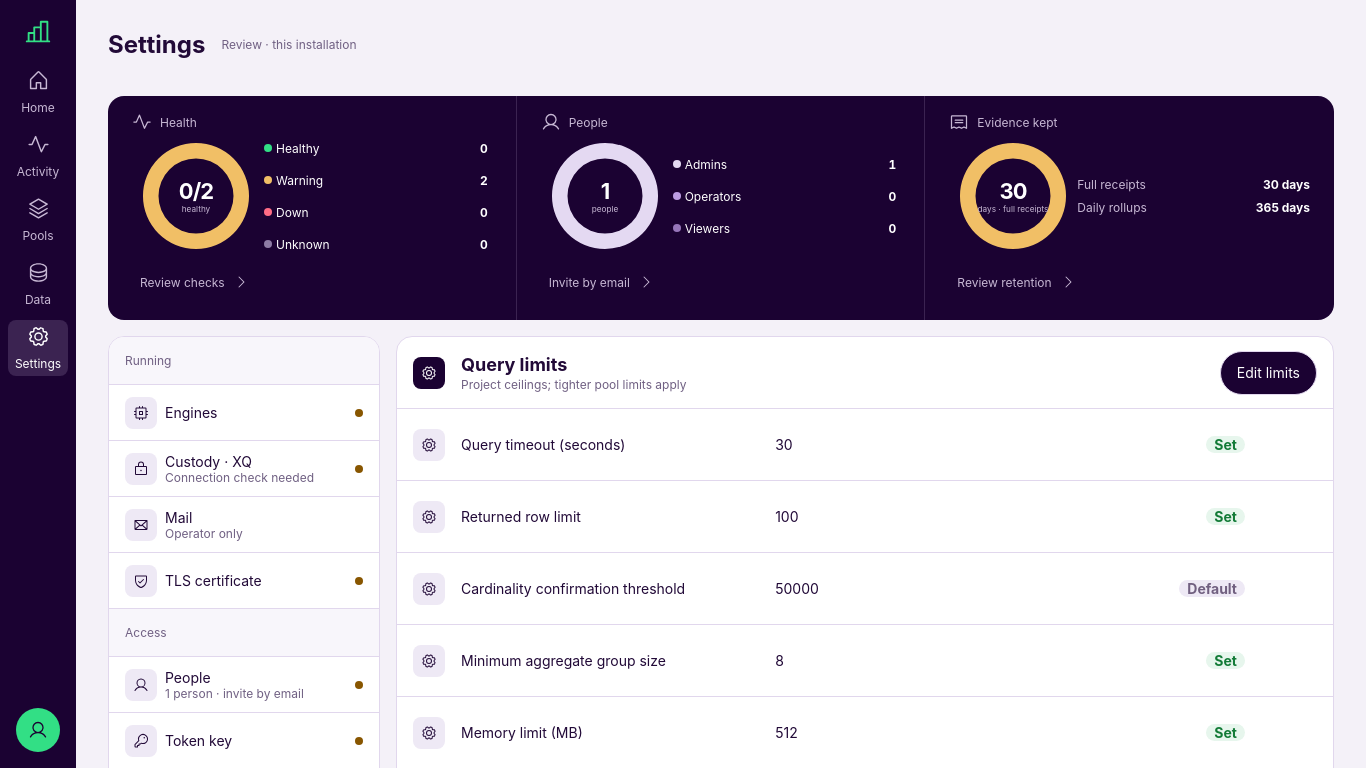
it: every project setting has exactly one existing section; all eight query limits are editable
Click the button "Edit limits" at (1268, 372), box [1220,350,1317,394]
(page scrolled)
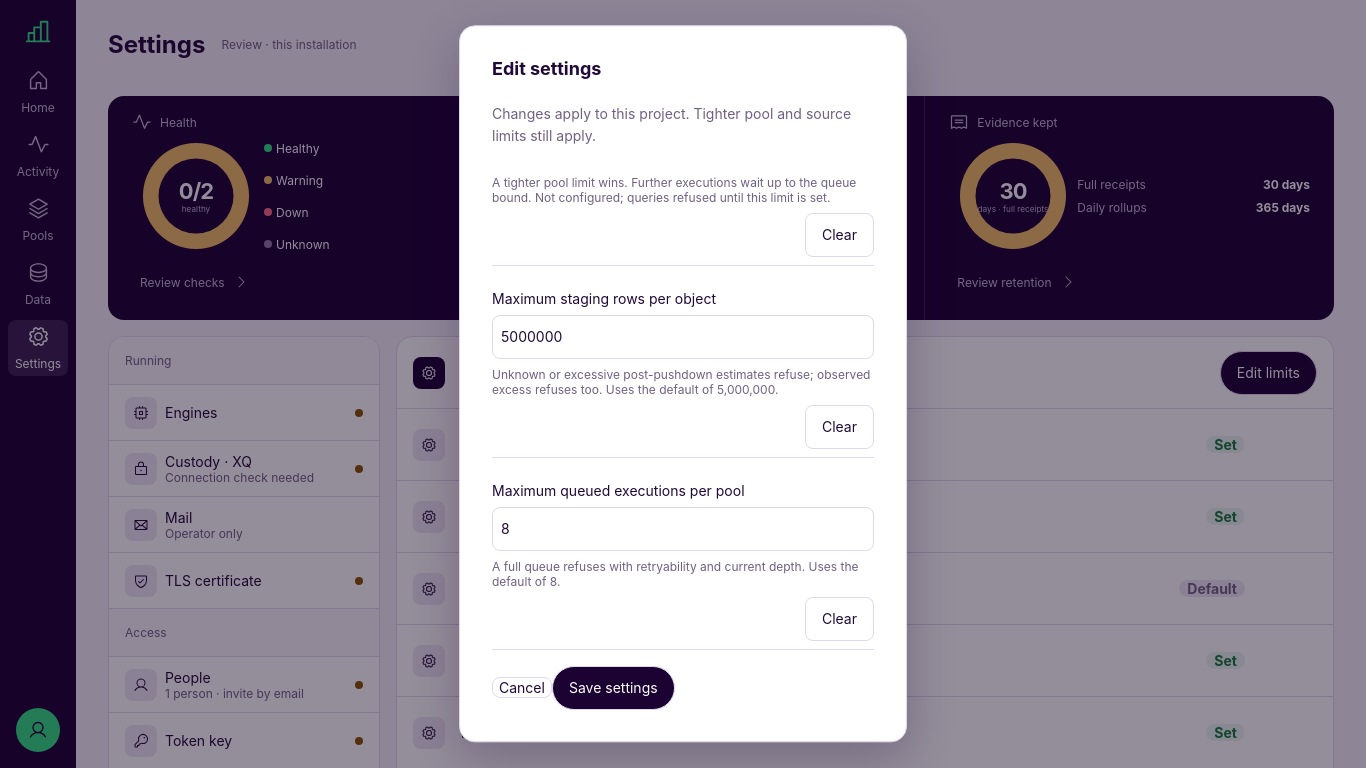
Expected: the number field labelled "Maximum staging rows per object" is shown, [492,315,874,359]
Expected: the number field labelled "Maximum queued executions per pool" is shown, [492,507,874,551]
